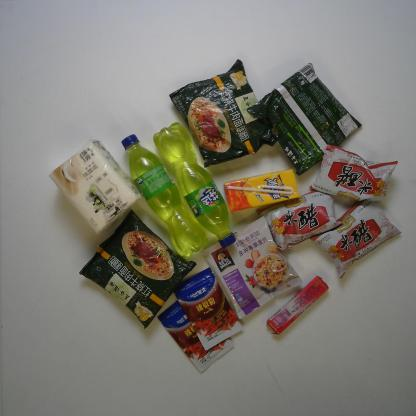Candy: (265, 271, 332, 338)
Drink: (121, 133, 214, 259), (148, 121, 238, 250), (223, 167, 304, 214)
Instant Drink: (199, 216, 308, 324)
Instant Noodles: (75, 206, 199, 329), (248, 62, 366, 179), (166, 59, 278, 169)
Seasoner: (312, 193, 408, 279), (170, 266, 249, 354), (309, 143, 403, 208), (156, 299, 236, 375), (263, 190, 346, 256)
Tissue: (48, 137, 145, 241)
